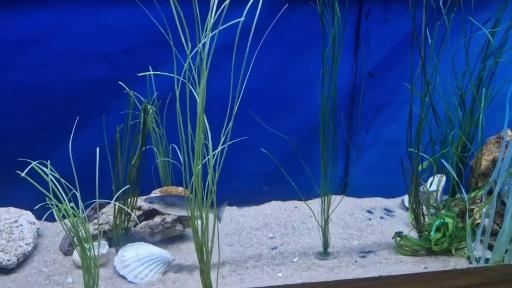Fish: (143, 195, 189, 215)
